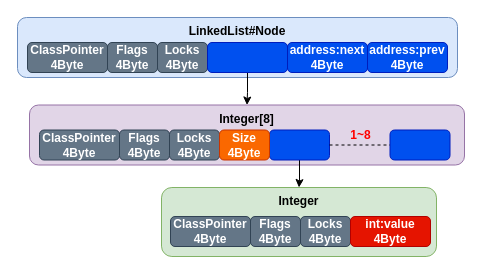
This 482x274 diagram has some shape labels left out. Each missing label, with the centre of its shape:
"address:1 4Byte" belongs at pixel 299 144.
"address:8 4Byte" belongs at pixel 419 144.
"address:item 4Byte" belongs at pixel 247 57.
